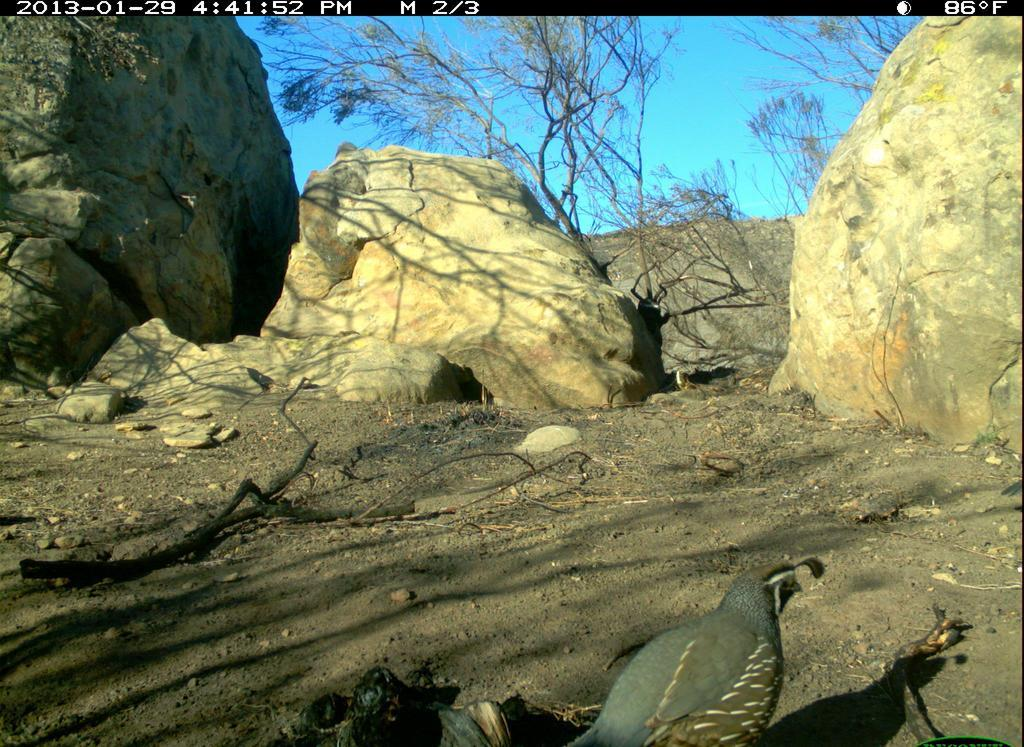bird: (560, 536, 827, 745)
